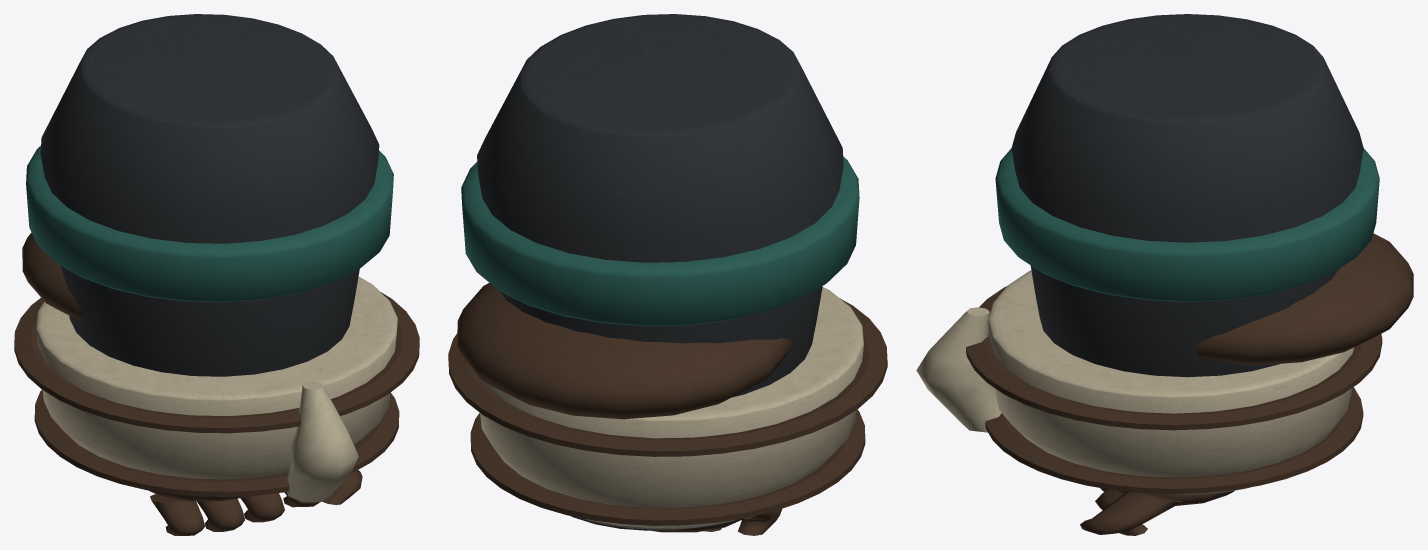
The model's file is hero_stalker_arm.glb.
The picture shows the model from 3 angles, left to right: view 1: azimuth 30°, elevation 25°; view 2: azimuth 150°, elevation 25°; view 3: azimuth 270°, elevation 25°; orthographic projection. The views are drawn at different scales.
Parts seen in each view (by area): view 1: hero_stalker_arm charcoal cloth, hero_stalker_arm aged bone, hero_stalker_arm old leather, hero_stalker_arm hunter teal cloth; view 2: hero_stalker_arm charcoal cloth, hero_stalker_arm old leather, hero_stalker_arm aged bone, hero_stalker_arm hunter teal cloth; view 3: hero_stalker_arm charcoal cloth, hero_stalker_arm aged bone, hero_stalker_arm old leather, hero_stalker_arm hunter teal cloth.
Part boxes in pixels (box(x1,y1,x2,y2)): hero_stalker_arm charcoal cloth: box(40, 14, 379, 376); hero_stalker_arm aged bone: box(36, 276, 397, 502); hero_stalker_arm old leather: box(14, 232, 419, 535); hero_stalker_arm hunter teal cloth: box(26, 146, 393, 302); hero_stalker_arm charcoal cloth: box(477, 14, 843, 530); hero_stalker_arm old leather: box(448, 283, 887, 535); hero_stalker_arm aged bone: box(480, 287, 863, 527); hero_stalker_arm hunter teal cloth: box(461, 156, 859, 326); hero_stalker_arm charcoal cloth: box(1011, 14, 1363, 377); hero_stalker_arm aged bone: box(916, 270, 1354, 477); hero_stalker_arm old leather: box(966, 233, 1413, 535); hero_stalker_arm hunter teal cloth: box(995, 148, 1379, 301).
Size of the model in its own units: 0.9579 by 1.14 by 1.16.
5 materials, 5 textured.
